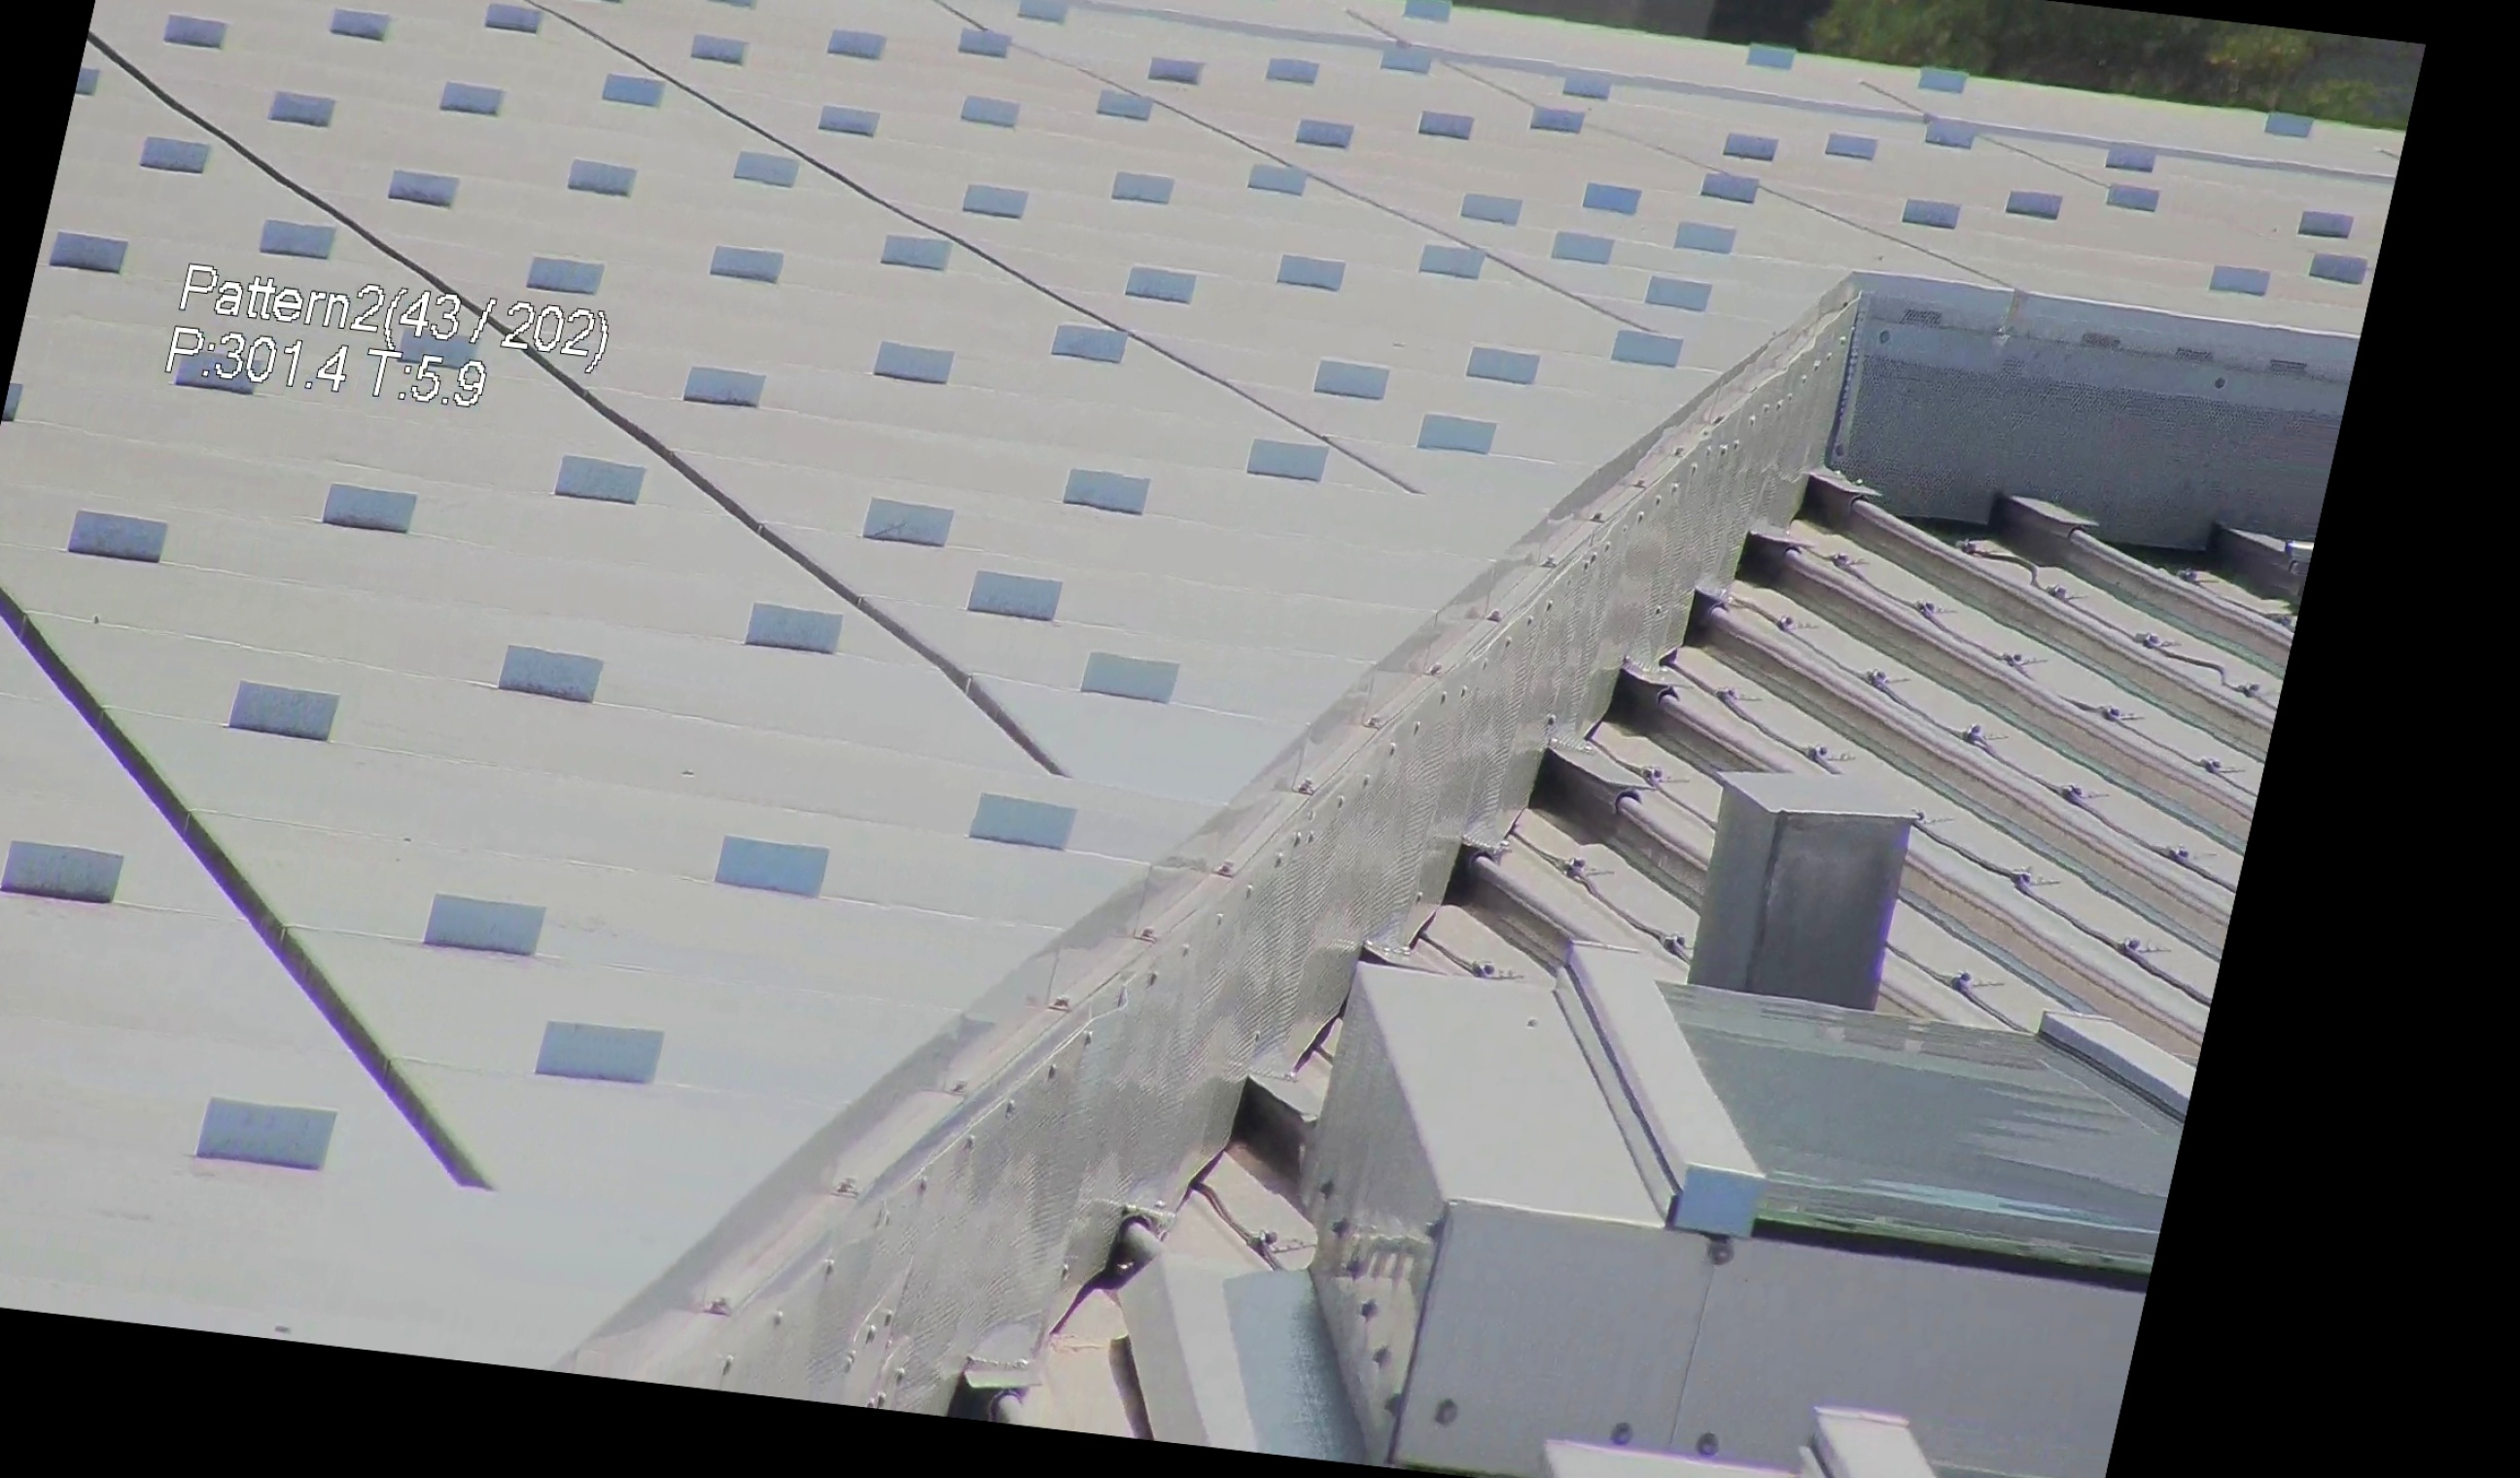Other: (1036, 1186, 1199, 1371)
